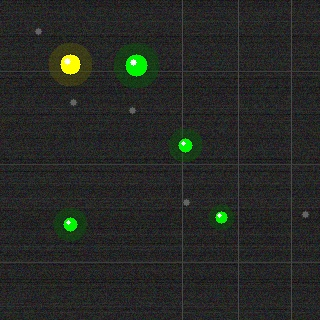green_normal: (123, 52, 149, 78), (61, 215, 79, 233), (176, 136, 194, 154), (213, 209, 229, 225)
yellow_warning: (58, 52, 82, 76)
